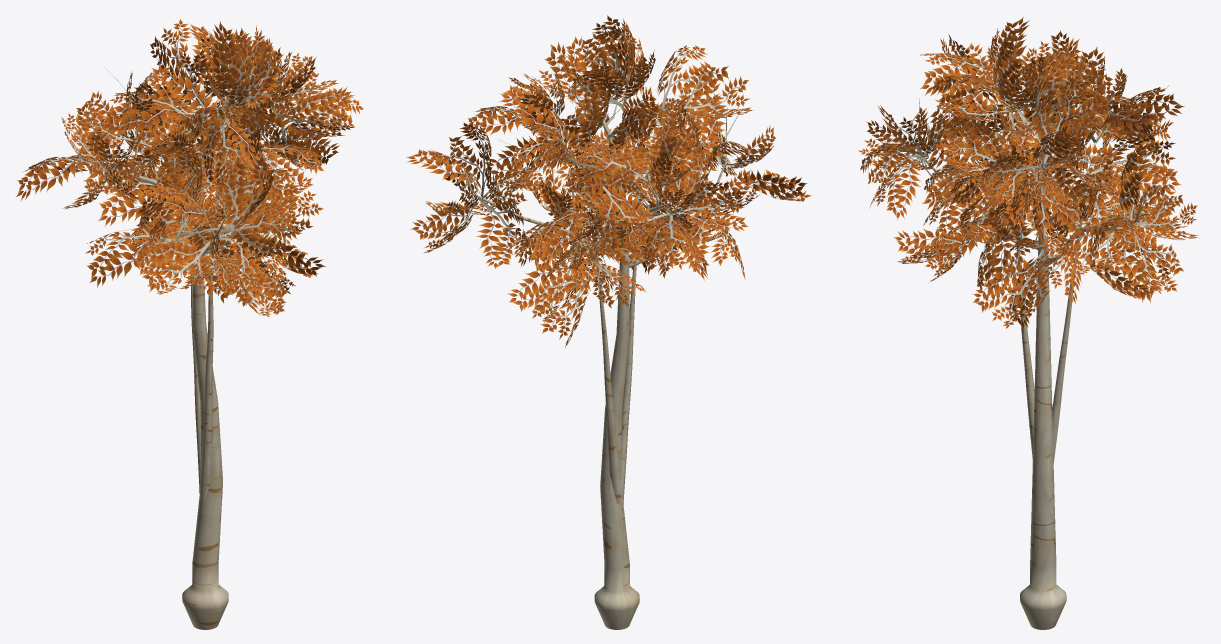
File: arvores01.fbx
3 views of the same model, side by side, from view 1: azimuth 30°, elevation 25°; view 2: azimuth 150°, elevation 25°; view 3: azimuth 270°, elevation 25° (orthographic). The views are drawn at different scales.
Visible parts, largest first — view 1: Folhas_ArvoreBranca_01, Folhas_ArvoreBranca_02, ArvoreBranca_01, ArvoreBranca_02; view 2: Folhas_ArvoreBranca_01, Folhas_ArvoreBranca_02, ArvoreBranca_01, ArvoreBranca_02; view 3: Folhas_ArvoreBranca_01, Folhas_ArvoreBranca_02, ArvoreBranca_01, ArvoreBranca_02.
Boxes of the visible parts, <box> form: Folhas_ArvoreBranca_01: <box>15,25,363,317</box>; Folhas_ArvoreBranca_02: <box>77,19,305,305</box>; ArvoreBranca_01: <box>88,35,307,629</box>; ArvoreBranca_02: <box>104,47,257,508</box>; Folhas_ArvoreBranca_01: <box>406,23,811,347</box>; Folhas_ArvoreBranca_02: <box>499,15,752,293</box>; ArvoreBranca_01: <box>462,71,738,629</box>; ArvoreBranca_02: <box>498,82,681,512</box>; Folhas_ArvoreBranca_01: <box>858,25,1199,329</box>; Folhas_ArvoreBranca_02: <box>919,17,1184,296</box>; ArvoreBranca_01: <box>891,57,1145,629</box>; ArvoreBranca_02: <box>988,85,1168,462</box>.
Size of the model in its own units: 467 by 848 by 448.
